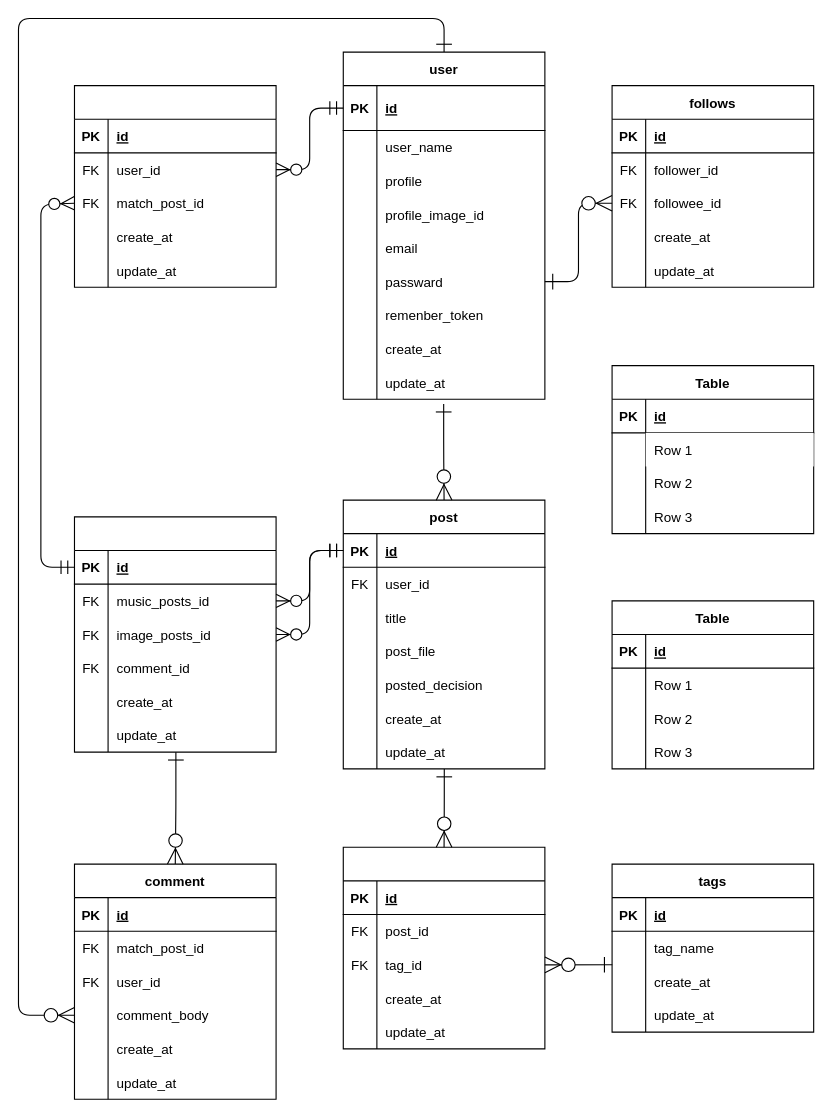
Image size: 832x1118. Some labels were removed from this diagram. The box of each missing label's shape, as (x1, y1, x2, y2) in pixels:
like: (73, 85, 276, 287)
match_post: (73, 516, 276, 752)
post_tag: (342, 846, 545, 1049)
